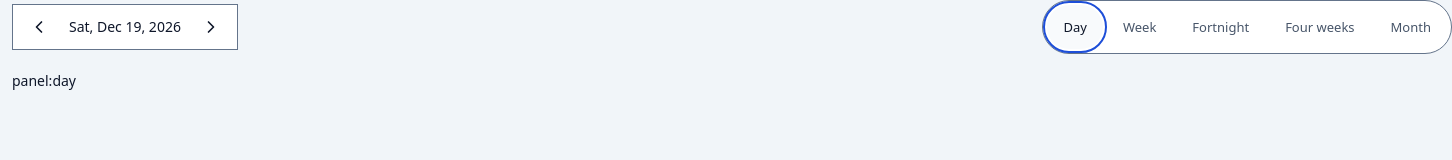
RosterZoom (13.2) › switches Day · Week · Fortnight · Four weeks · Month with tabs semantics
Check: the tabs read "Day", "Week", "Fortnight", "Four weeks", "Month", in this order, box [1048,5,1103,49]; [1107,5,1172,49]; [1176,5,1265,49]; [1269,5,1371,49]; [1375,5,1447,49]
Check: the panel reads "panel:day", box [12,71,76,90]
Press Arrowright
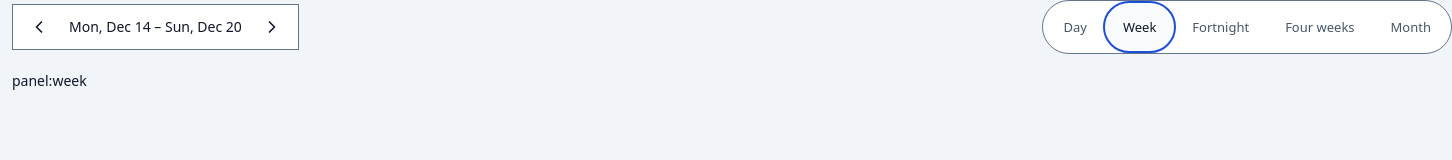
Check: the panel reads "panel:week", box [12,71,87,90]
Click the tab "Month". click: (1411, 27)
box: [1375,5,1447,49]
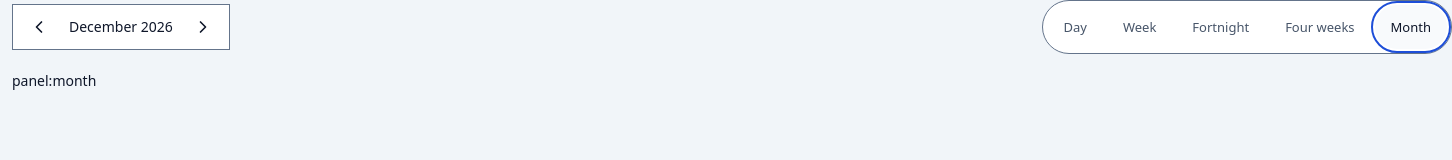
Check: the panel reads "panel:month", box [12,71,96,90]
